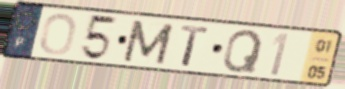1: (269, 32, 291, 77)
5: (80, 12, 119, 62)
M: (120, 18, 177, 67)
O: (38, 12, 79, 57)
Q: (220, 28, 265, 74)
T: (178, 23, 212, 68)
